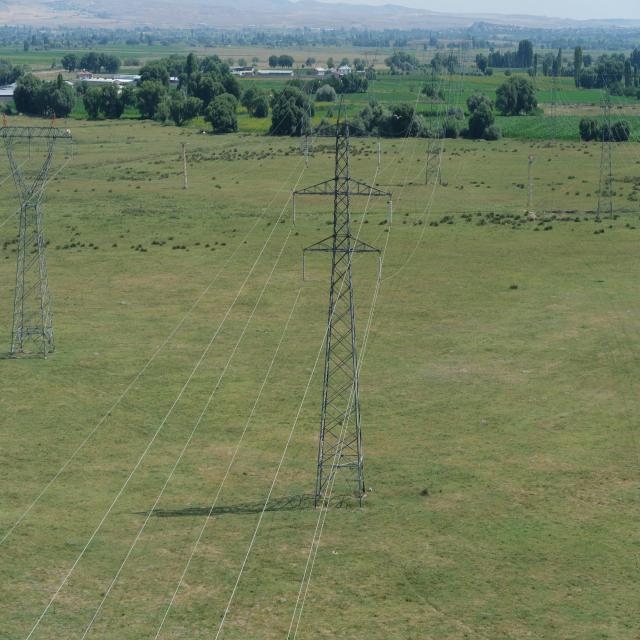direk: (312, 94, 372, 503), (9, 121, 58, 359), (594, 144, 619, 220)
tree: (128, 76, 172, 124), (18, 76, 72, 114), (272, 95, 310, 138), (82, 84, 128, 118), (584, 60, 630, 91), (468, 99, 500, 143), (372, 109, 414, 140), (497, 83, 535, 115), (208, 98, 238, 134), (322, 74, 364, 94), (178, 81, 200, 114), (389, 53, 420, 76), (82, 56, 116, 72), (150, 62, 193, 74)
